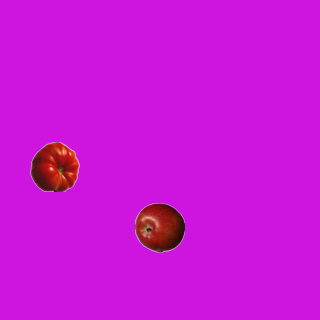Apple Braeburn: (134, 202, 184, 252)
Tomato 3: (29, 141, 79, 191)
